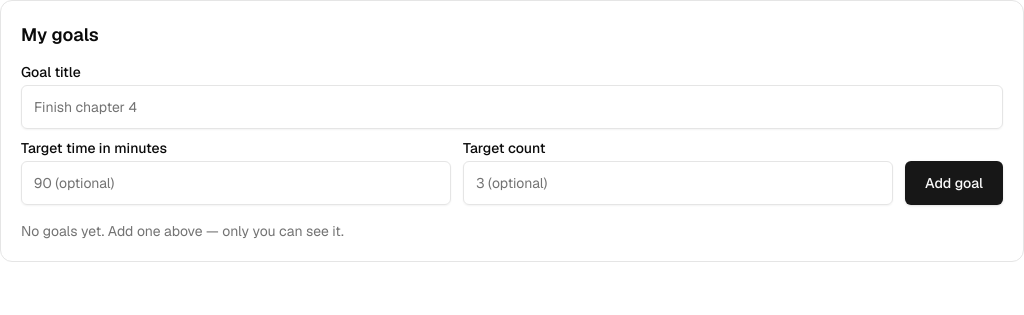
Scenario: GoalsPanel › refuses an out-of-range target before touching the server
The image size is (1024, 315).
Type "Anything" into the field labelled "Goal title" at coordinates (512, 107), box [21,85,1003,129]
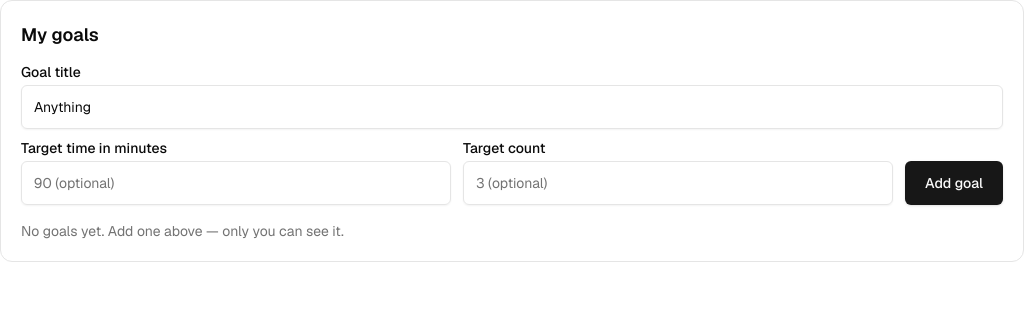
Type "99999" into the number field labelled "Target time in minutes" at coordinates (236, 183), box [21,161,451,205]
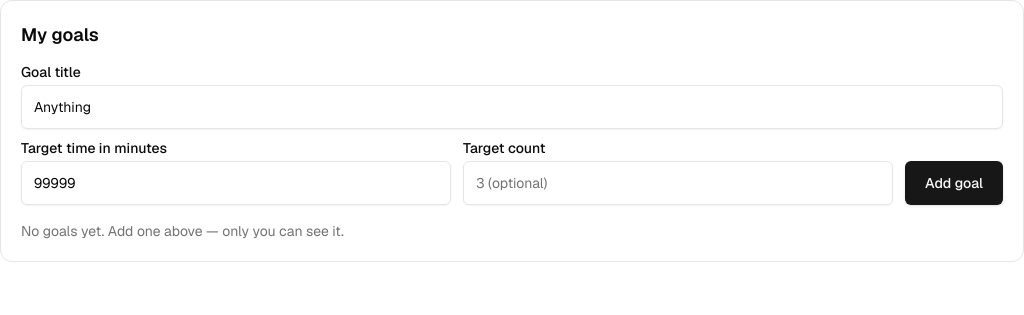
Submit the form, box [21,65,1003,205]
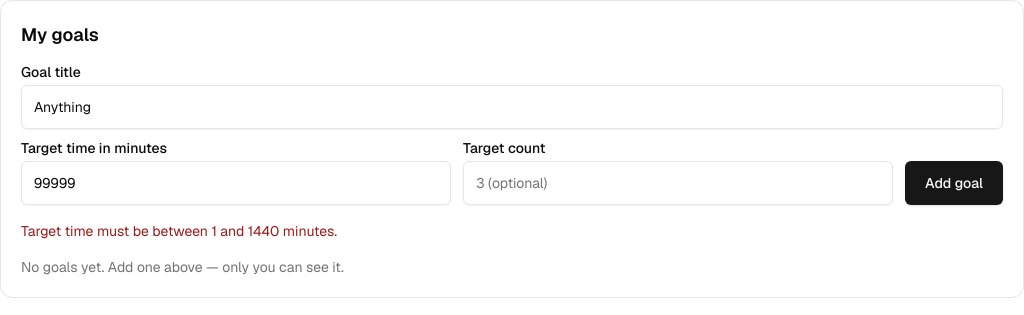
Expected: the message reads "Target time must be between 1 and 1440 minutes.", [21,222,337,240]
